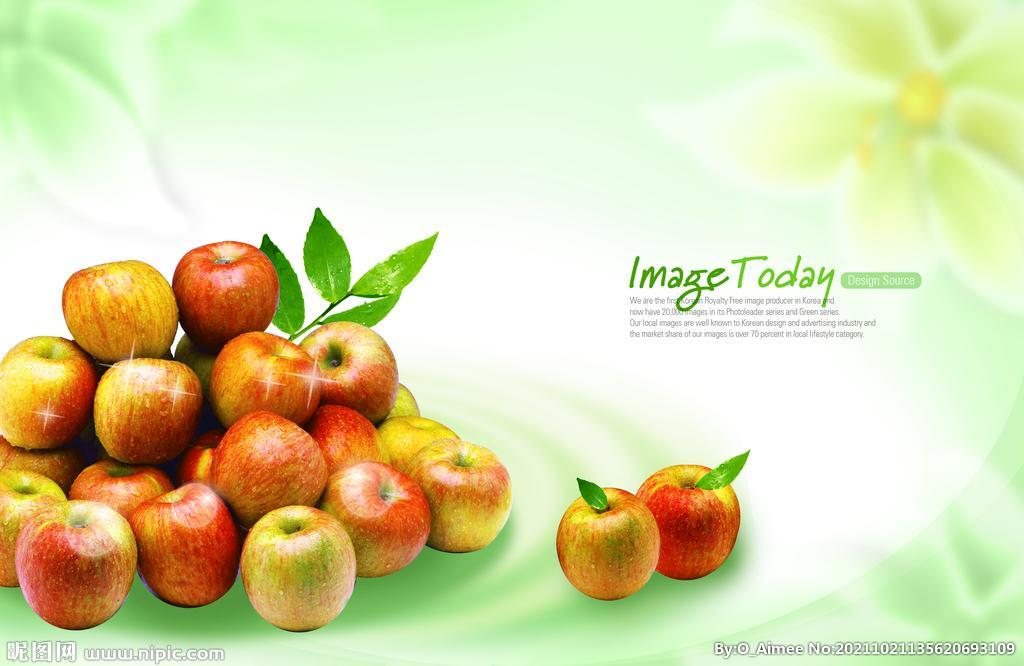apple: (12, 499, 138, 631), (242, 507, 357, 636), (137, 479, 241, 608), (635, 458, 744, 581), (92, 352, 205, 466), (554, 481, 659, 603), (211, 411, 325, 520), (172, 239, 280, 351), (410, 437, 514, 553), (323, 462, 429, 575), (62, 260, 176, 362), (210, 328, 323, 427), (1, 335, 99, 448), (300, 321, 400, 421)
